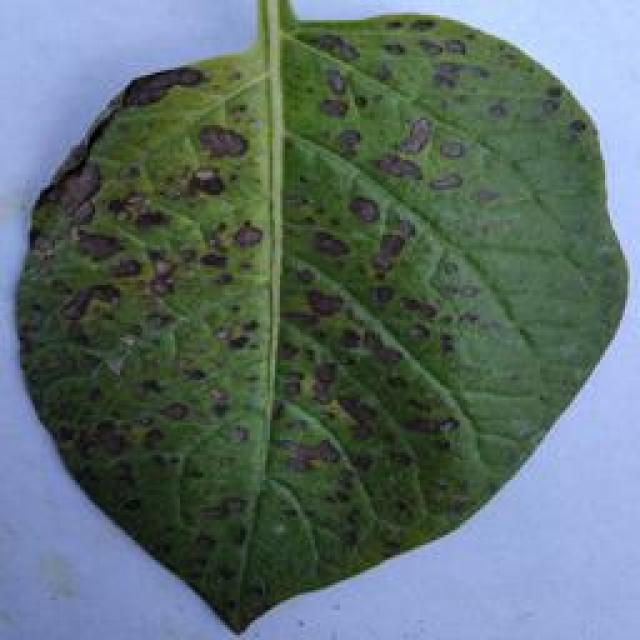Potato_Early_Blight: (19, 22, 620, 622)
